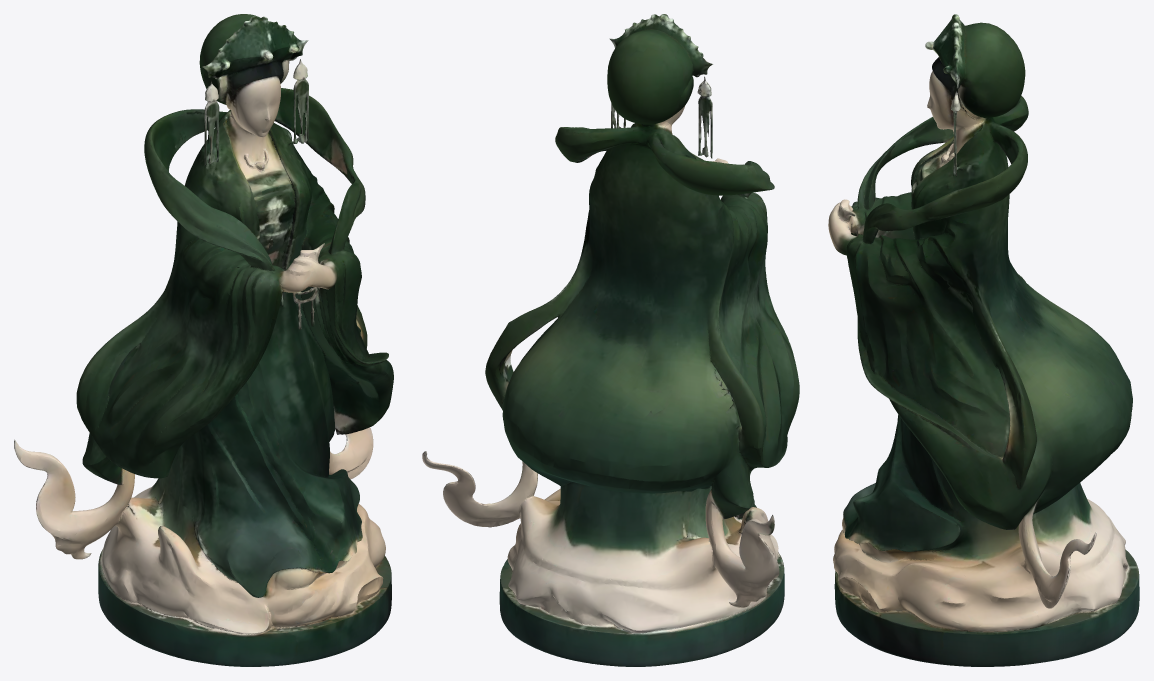
Rendered from queen_white.glb.
3 views of the same model, side by side, from view 1: azimuth 30°, elevation 25°; view 2: azimuth 150°, elevation 25°; view 3: azimuth 270°, elevation 25° (orthographic). The views are drawn at different scales.
Visible parts, largest first — view 1: model; view 2: model; view 3: model.
Part boxes in pixels (x1,y1,x2,y2): model: (14, 14, 393, 666); model: (422, 14, 799, 666); model: (828, 14, 1139, 666).
Bounding box in the file's own units: 1.18 × 1.9 × 0.907.
Materials: 1 (1 with a texture image).
